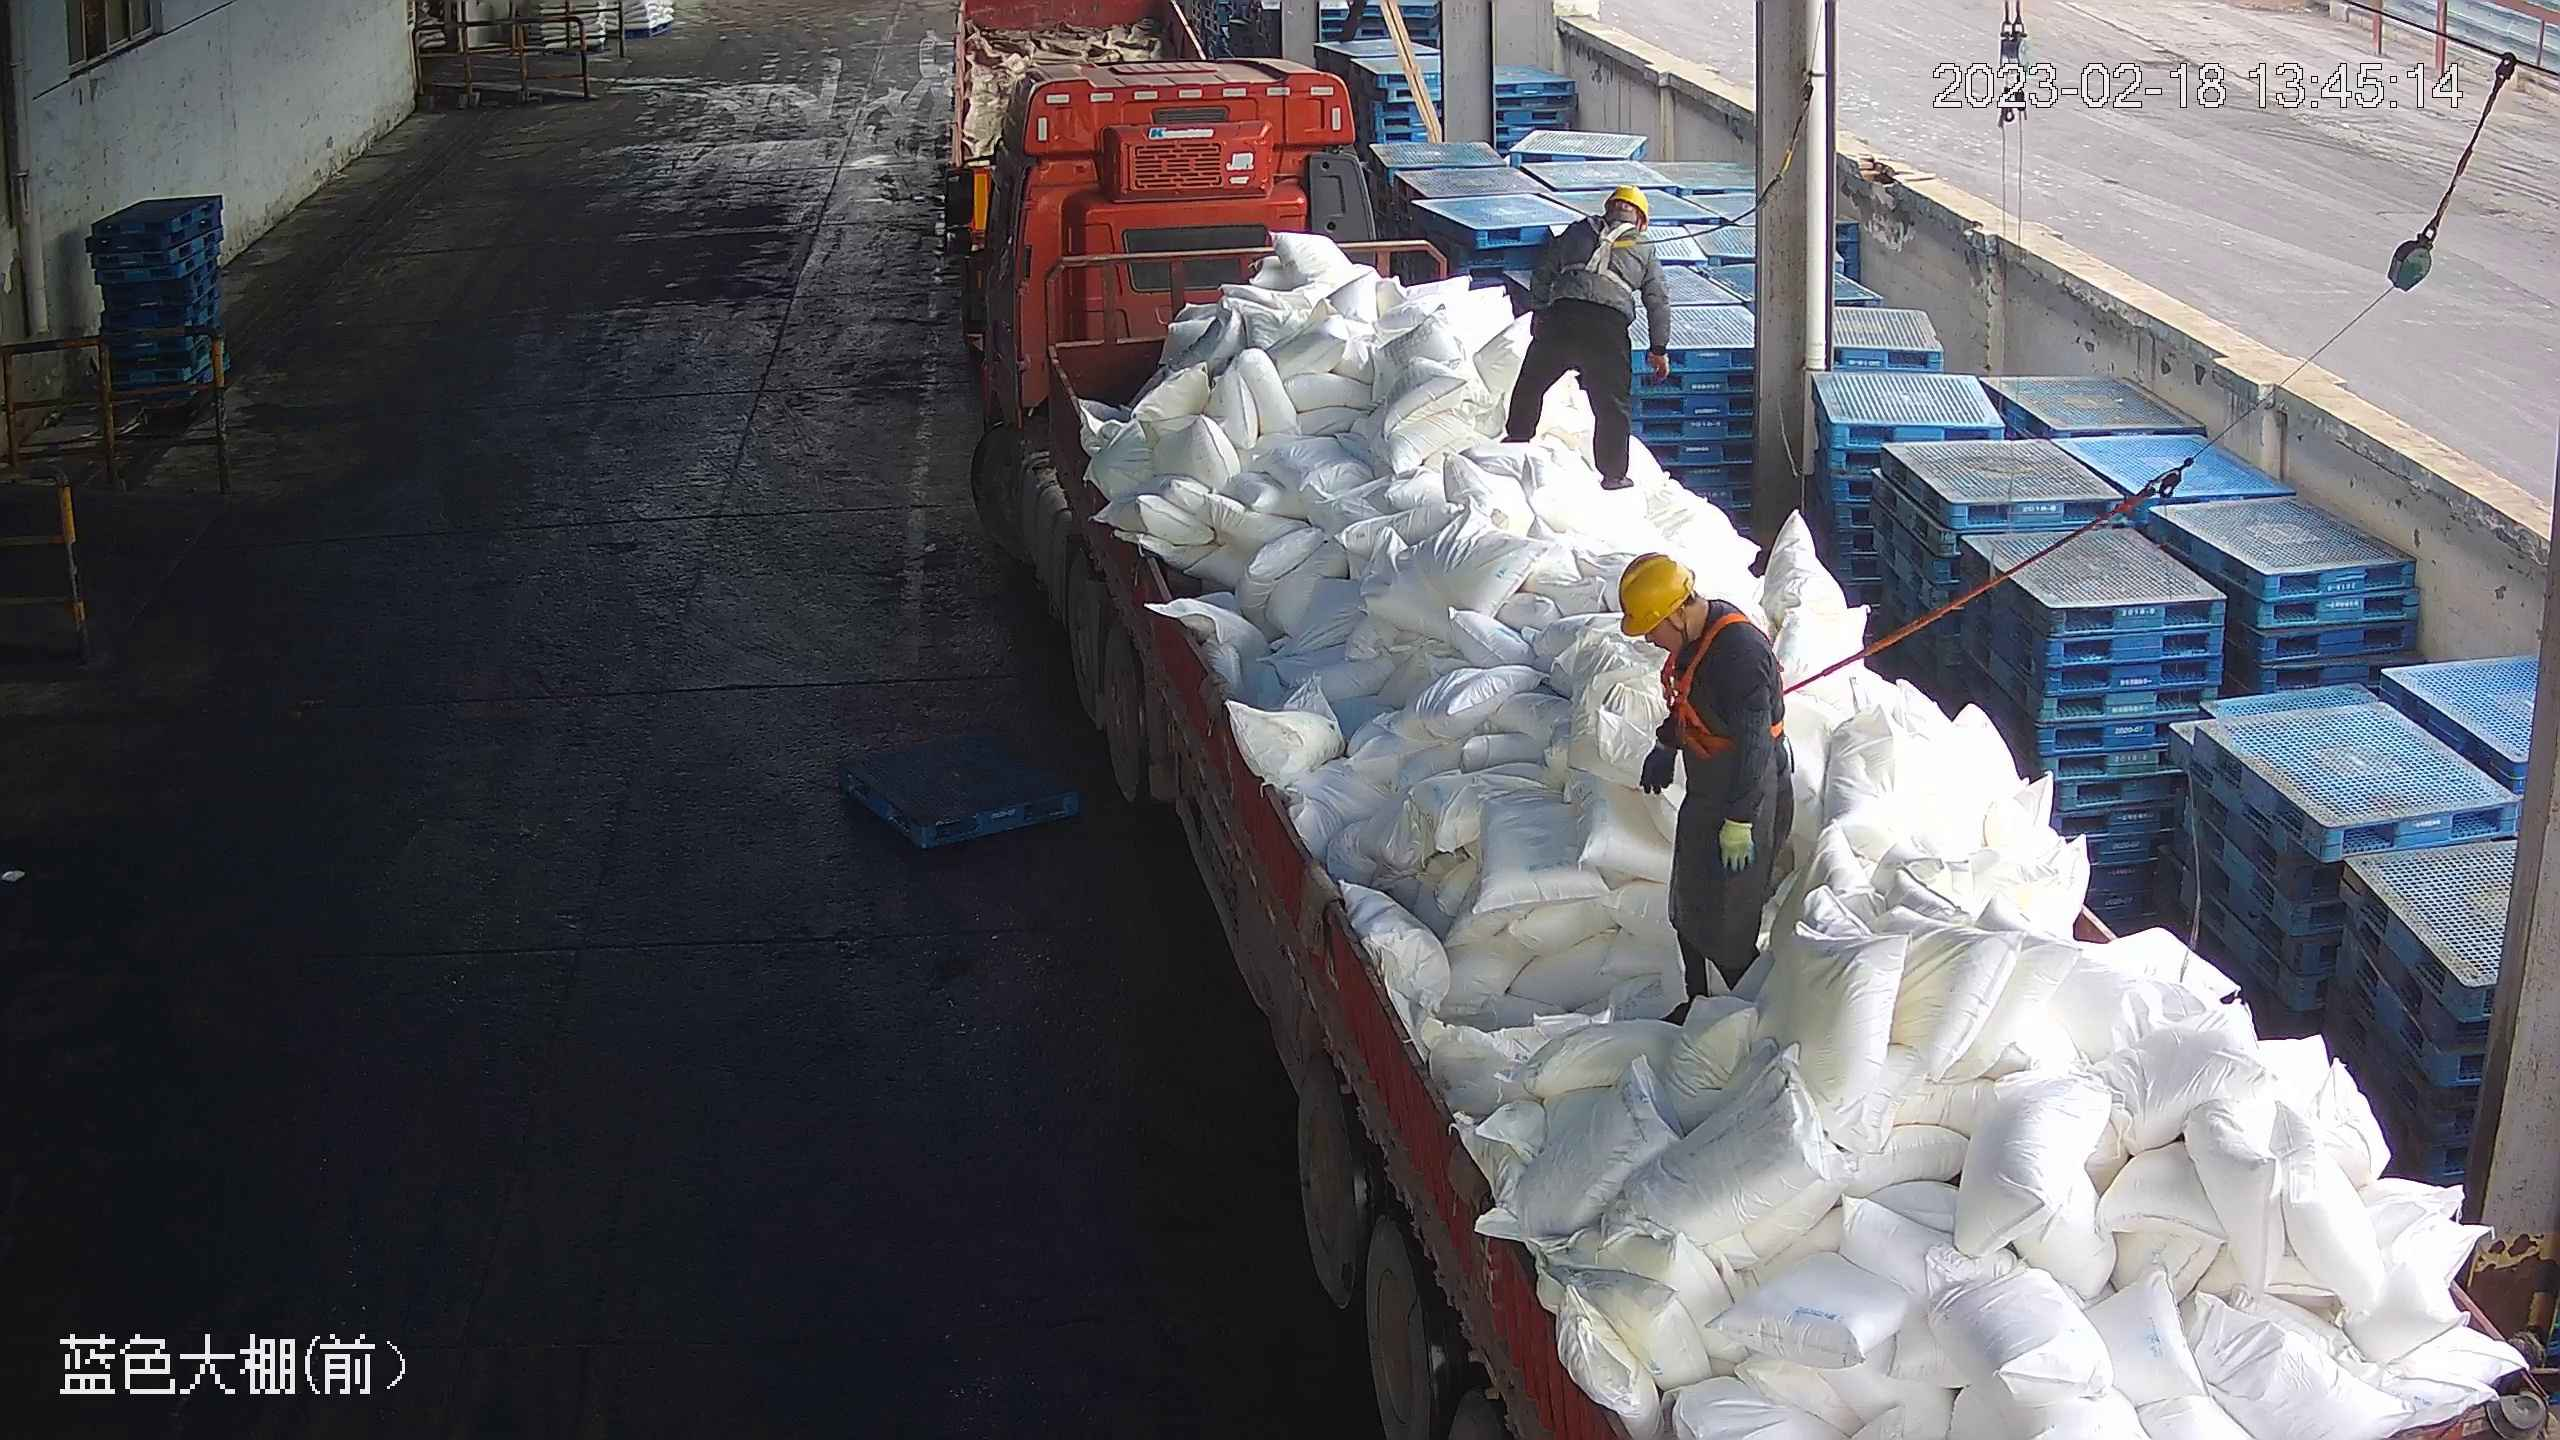belt: (1659, 606, 1782, 758), (1568, 222, 1642, 292)
head: (1614, 552, 1770, 703), (1560, 184, 1661, 270)
helmet: (1615, 552, 1695, 636), (1604, 183, 1656, 224)
people: (1608, 551, 1801, 1025), (1501, 185, 1673, 490)
truck: (951, 65, 2555, 1434)
